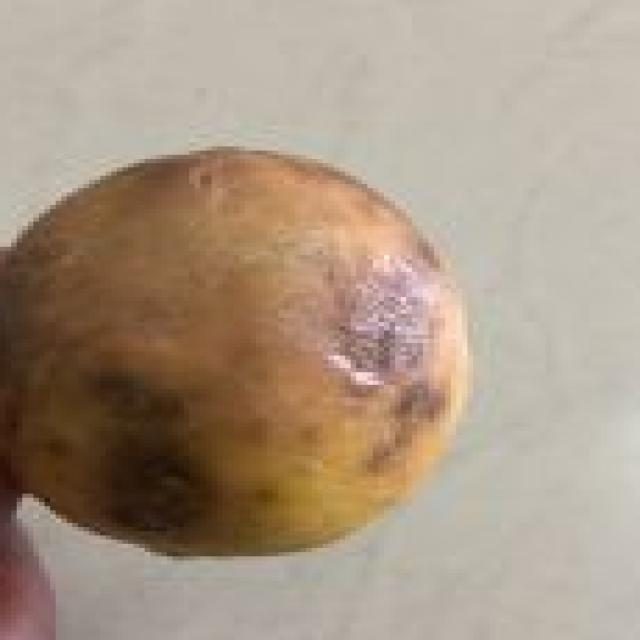Bad_Lime-0-1-day: (0, 146, 479, 565)
